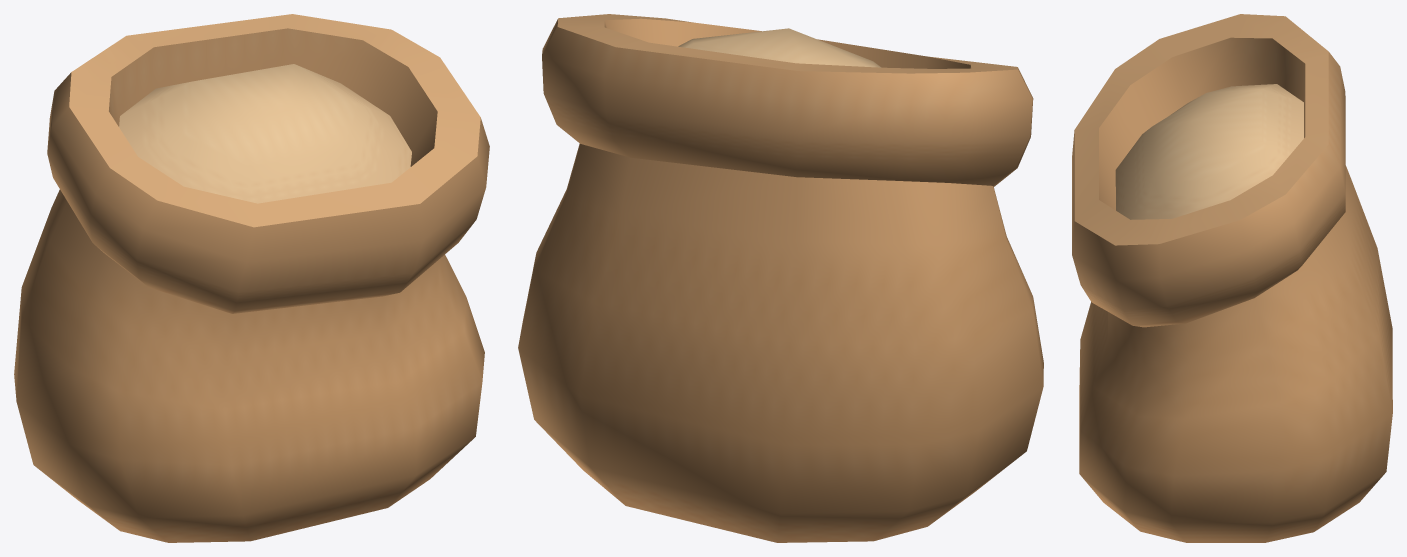
Rendered from Food_Flour.gltf.
3 renders of one model, left to right at view 1: azimuth 30°, elevation 25°; view 2: azimuth 150°, elevation 25°; view 3: azimuth 270°, elevation 25°, orthographic. The views are drawn at different scales.
Parts seen in each view (by area): view 1: Food_Flour; view 2: Food_Flour; view 3: Food_Flour.
Boxes of the visible parts, bbox=[...] form: Food_Flour: bbox=[14, 14, 489, 542]; Food_Flour: bbox=[518, 14, 1043, 542]; Food_Flour: bbox=[1072, 14, 1392, 542].
Size of the model in its own units: 0.6019 by 0.6056 by 0.4318.
1 material, 1 textured.
